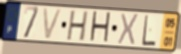7: (23, 5, 40, 41)
H: (88, 10, 112, 45), (65, 10, 90, 43)
L: (141, 14, 157, 48)
V: (41, 7, 64, 42)
X: (116, 12, 140, 47)
